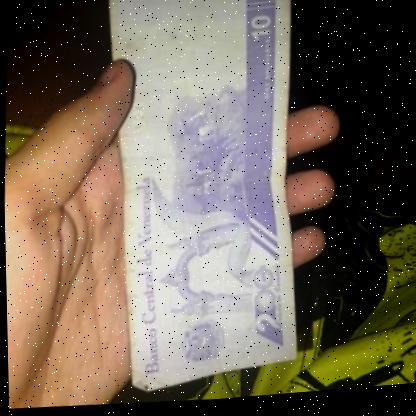vef_back: (104, 0, 307, 400)
